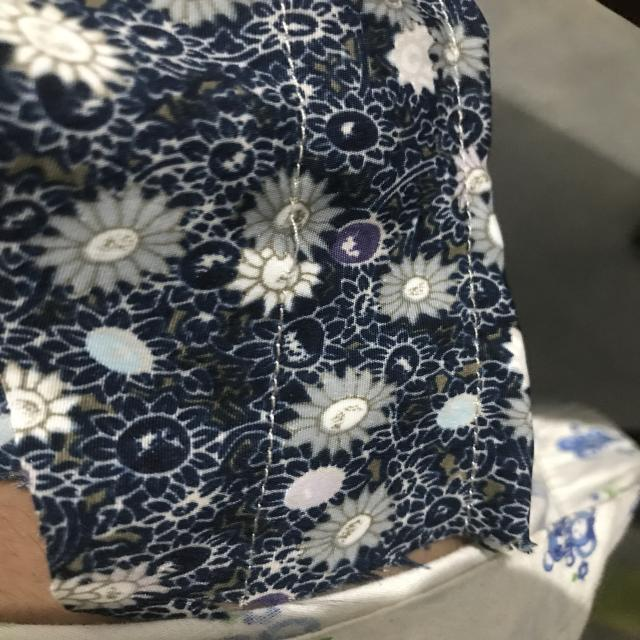skip: (264, 190, 311, 301)
